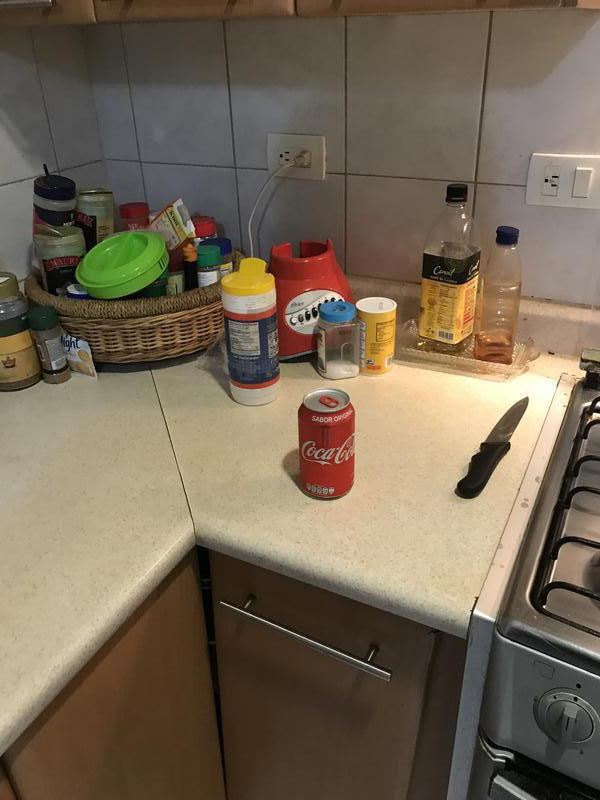coca_cola: (300, 390, 355, 503)
